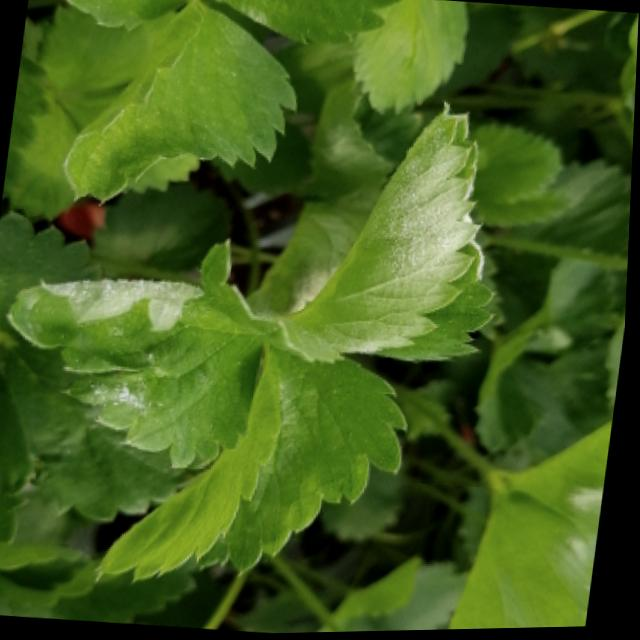Powdery Mildew Leaf: (9, 238, 279, 472), (281, 101, 499, 366)
